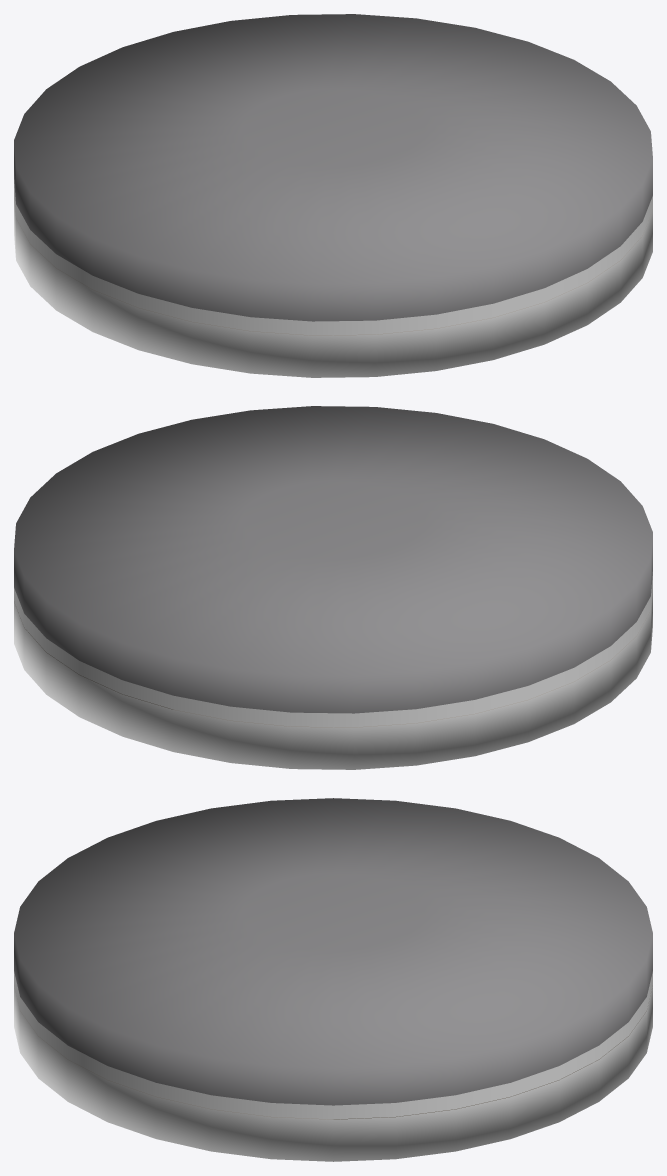
Rendered from HS Medium Hover Pad.obj.
3 views of the same model, one above another, from view 1: azimuth 30°, elevation 25°; view 2: azimuth 150°, elevation 25°; view 3: azimuth 270°, elevation 25° (orthographic).
Parts seen in each view (by area): view 1: HS_Medium_Hover_Hoverpad_Cylinder.001; view 2: HS_Medium_Hover_Hoverpad_Cylinder.001; view 3: HS_Medium_Hover_Hoverpad_Cylinder.001.
Part boxes in pixels (<box>): HS_Medium_Hover_Hoverpad_Cylinder.001: <box>14,14,652,377</box>; HS_Medium_Hover_Hoverpad_Cylinder.001: <box>14,406,652,769</box>; HS_Medium_Hover_Hoverpad_Cylinder.001: <box>14,798,652,1161</box>.
Size of the model in its own units: 1.8 by 0.355 by 1.8.
